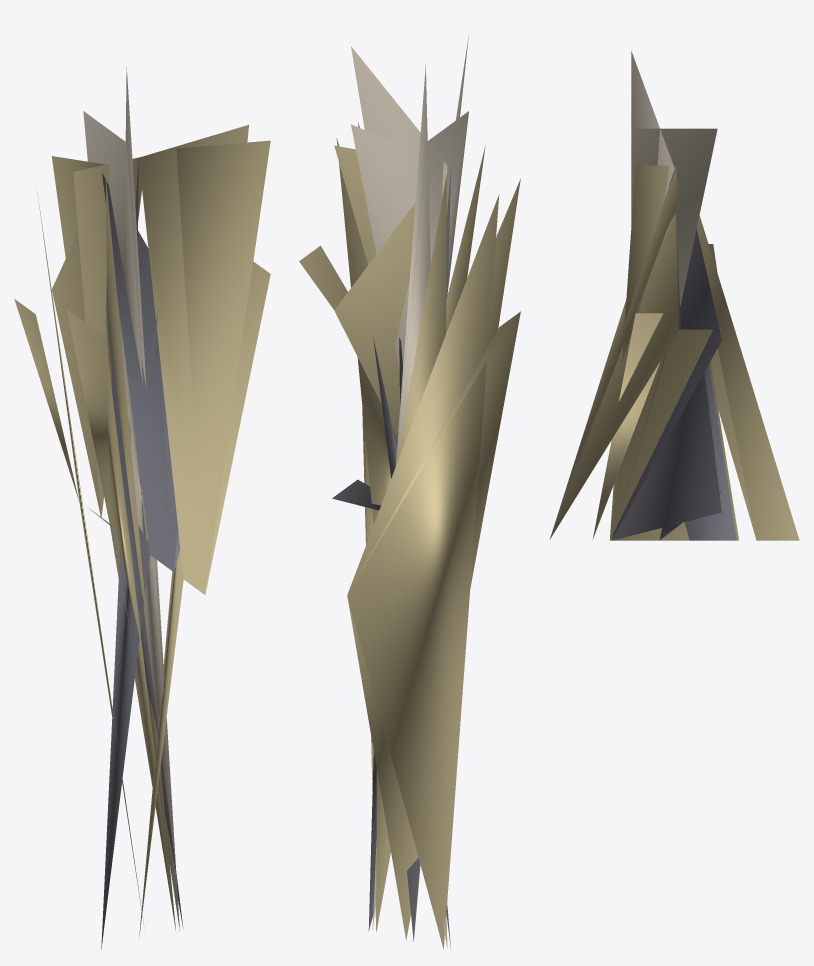
Rendered from npc_banker_walk.glb.
3 renders of one model, left to right at view 1: azimuth 30°, elevation 25°; view 2: azimuth 150°, elevation 25°; view 3: azimuth 270°, elevation 25°, orthographic.
Parts seen in each view (by area): view 1: npc_banker_walk; view 2: npc_banker_walk; view 3: npc_banker_walk.
Part boxes in pixels (x1,y1,x2,y2): npc_banker_walk: [14, 67, 270, 949]; npc_banker_walk: [299, 37, 520, 949]; npc_banker_walk: [549, 51, 799, 540].
Bounding box in the file's own units: 0.58 × 2.3 × 0.58.
